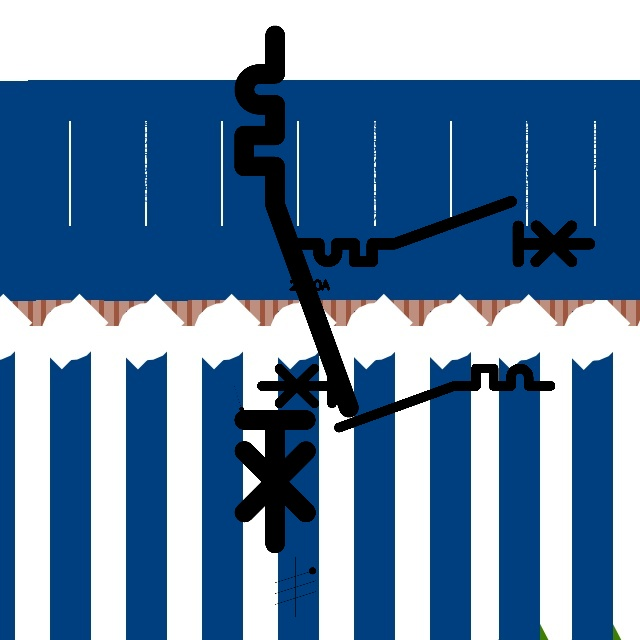interruptor_termomagnetico: (231, 22, 362, 557), (289, 194, 597, 269), (254, 361, 558, 435)
